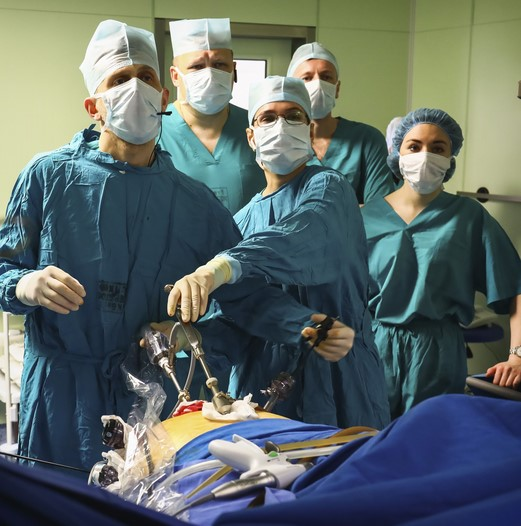face_with_mask: (83, 21, 166, 144), (245, 71, 318, 178), (167, 19, 238, 115), (392, 108, 461, 198), (290, 43, 342, 118)
